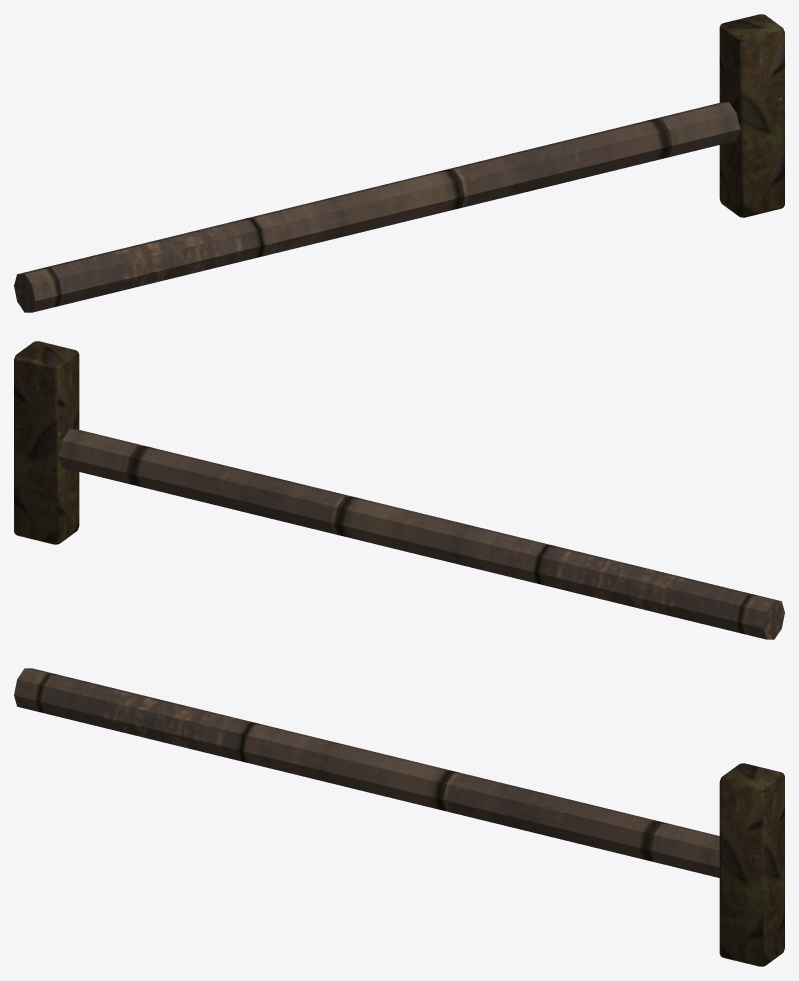
File: held_tool.glb
3 views of the same model, one above another, from view 1: azimuth 30°, elevation 25°; view 2: azimuth 150°, elevation 25°; view 3: azimuth 330°, elevation 25° (orthographic).
Visible parts, largest first — view 1: cyl, box; view 2: cyl, box; view 3: cyl, box.
Part boxes in pixels (bbox=[...]): cyl: bbox=[14, 102, 740, 312]; box: bbox=[719, 14, 784, 217]; cyl: bbox=[58, 429, 784, 639]; box: bbox=[14, 341, 79, 544]; cyl: bbox=[14, 668, 719, 877]; box: bbox=[719, 763, 784, 966].
Size of the model in its own units: 0.65 by 0.15 by 0.035.
2 materials, 2 textured.
